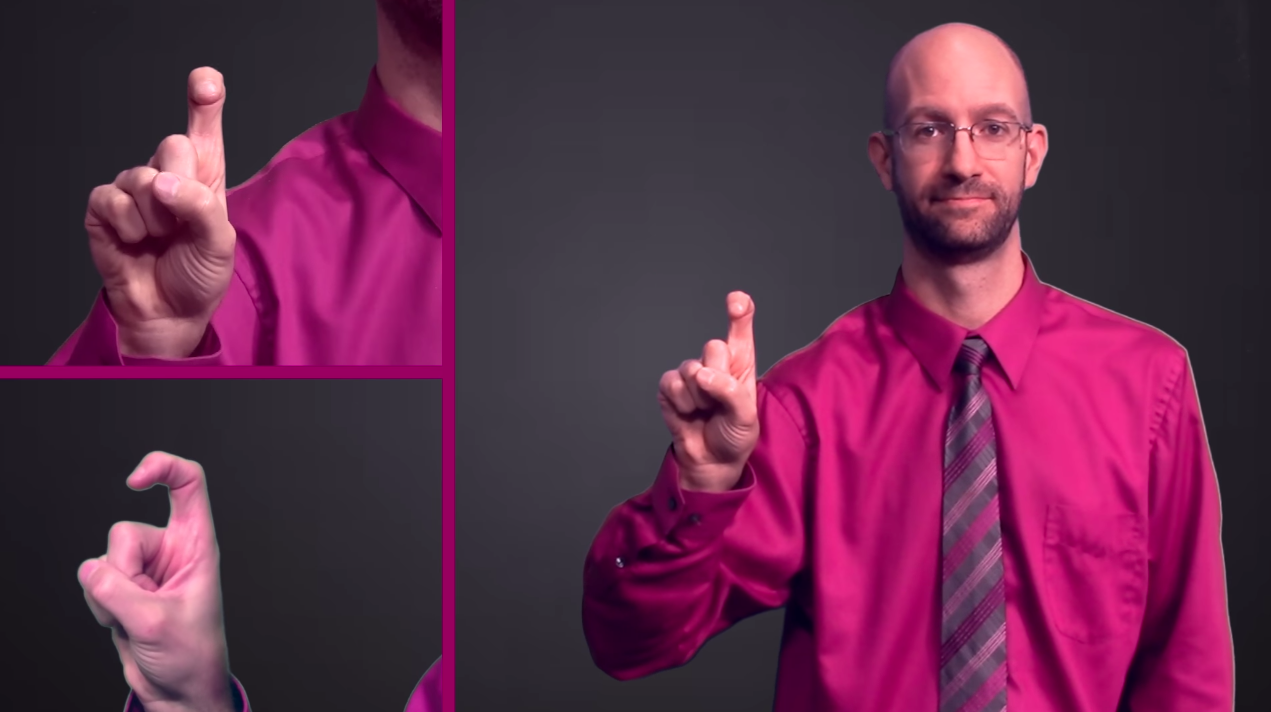x: (64, 437, 257, 712), (73, 52, 248, 354), (636, 277, 780, 494)
